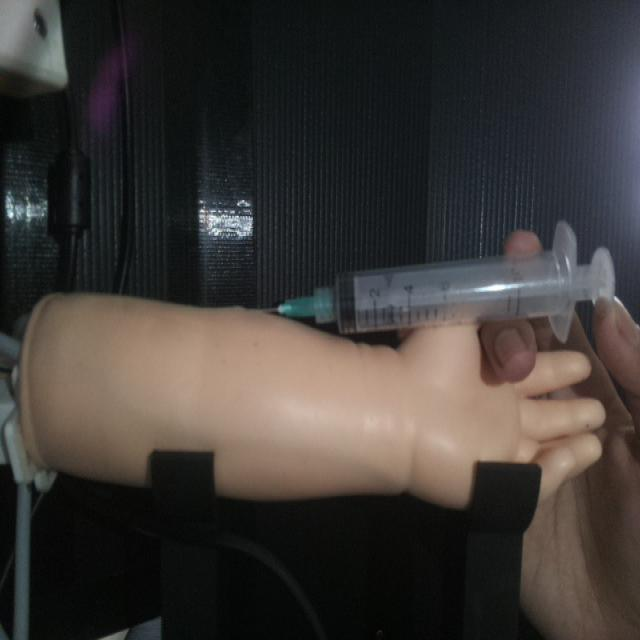Outside: (247, 217, 617, 345)
